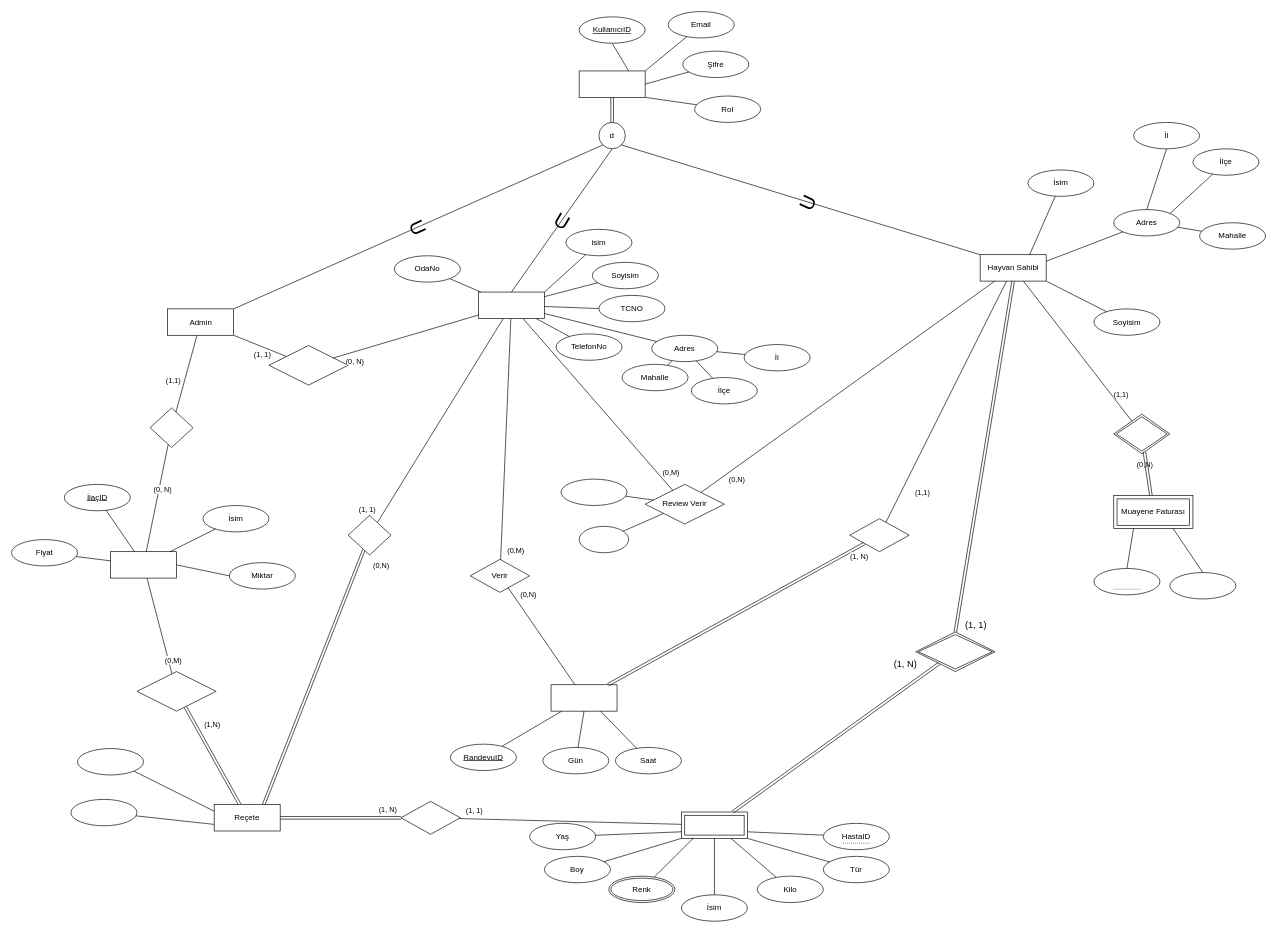
The diagram is 1277 pixels wide and 933 high, and some of its shapes have lost their labels. Here are the shapes that lost their labels. From the top down, the centre of each, then its label:
At point (611, 83): "Kullanıcı".
At point (511, 304): "Veteriner".
At point (308, 365): "Ekler".
At point (171, 427): "İlaç Alır".
At point (1141, 433): "Öder".
At point (593, 491): "Puan".
At point (369, 535): "Yazar".
At point (603, 539): "Açıklama".
At point (879, 535): "Alır".
At point (143, 564): "İlaçlar".
At point (1126, 581): "FaturaID".
At point (1202, 585): "Ücret".
At point (955, 651): "Sahip".
At point (176, 691): "İçerir".
At point (583, 697): "Randevu".
At point (110, 761): "ReçeteID".
At point (103, 812): "Tarih".
At point (430, 817): "Var".
At point (714, 824): "Hasta Hayvan".
